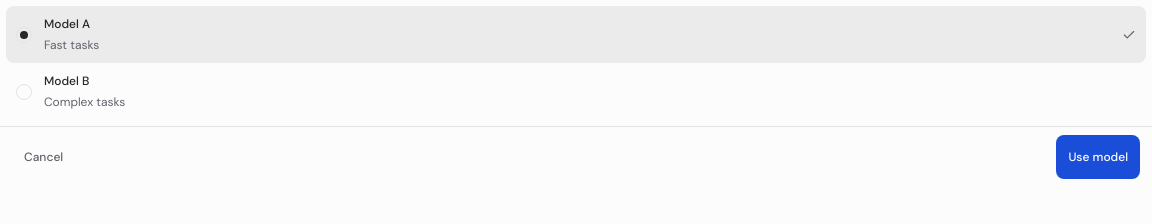
Scenario: keeps selection and exposes an inline failure for explicit retry
Click the radio button labelled "Model B".
click(67, 81)  # box [6,63,1146,120]
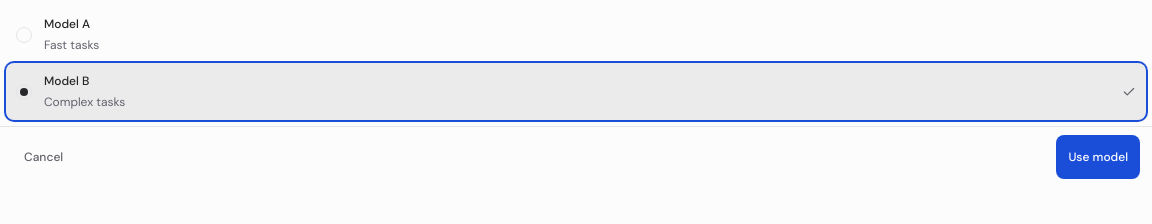
Click the button "Use model".
click(1098, 157)  # box [1056,135,1140,179]
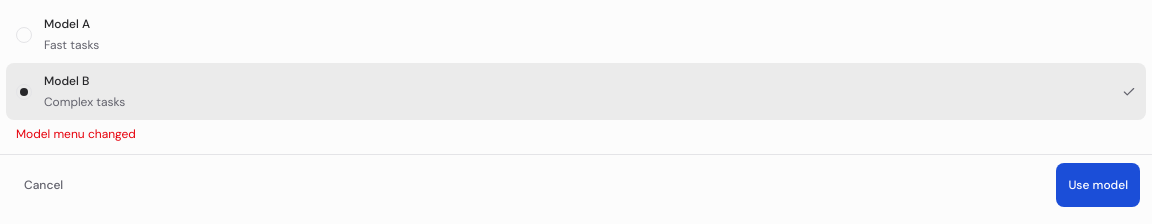
Expected: the button "Use model" is enabled, [1056,163,1140,207]
Result: the message reads "Model menu changed" at [16,126,136,142]
